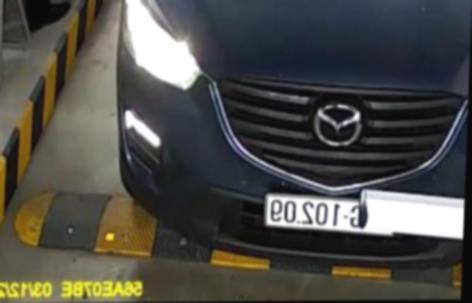License_Plate: (262, 193, 396, 235)
